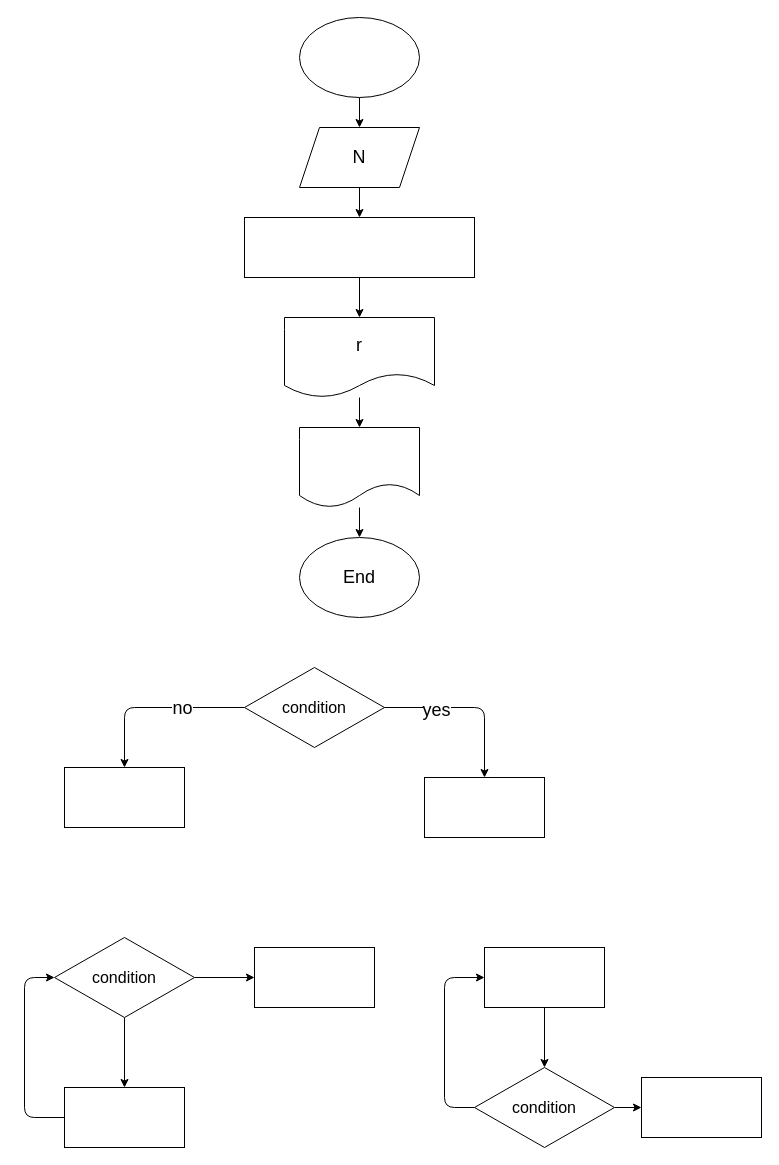
This 779x1165 diagram has some shape labels left out. Here are the shapes that lost their labels. From the top down, the box of each, then its label:
(298, 16, 420, 98): Start
(244, 216, 474, 278): r r = random (1,N)
(298, 426, 420, 508): r*r
